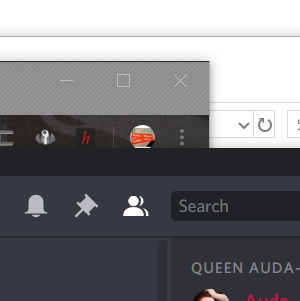close: (160, 63, 202, 99)
